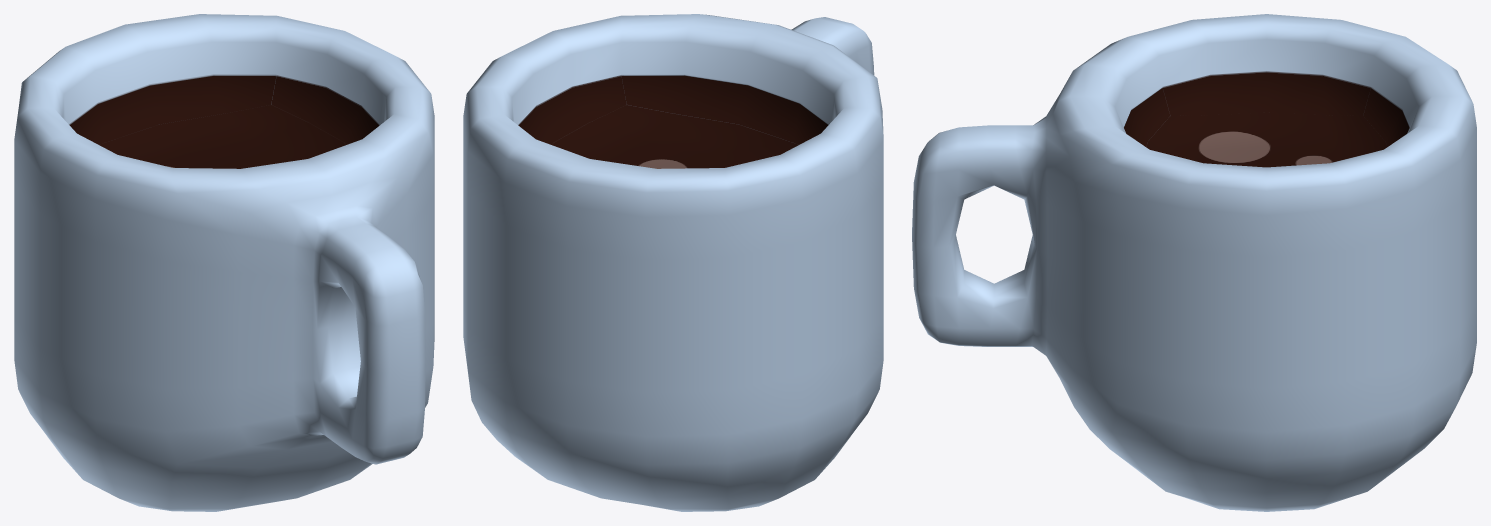
File: Taza.fbx
The picture shows the model from 3 angles, left to right: view 1: azimuth 30°, elevation 25°; view 2: azimuth 150°, elevation 25°; view 3: azimuth 270°, elevation 25°; orthographic projection.
Visible parts, largest first — view 1: pCylinder1; view 2: pCylinder1; view 3: pCylinder1.
Part boxes in pixels (left/top/right/bottom): pCylinder1: left=14, top=14, right=434, bottom=511; pCylinder1: left=463, top=14, right=883, bottom=511; pCylinder1: left=912, top=14, right=1476, bottom=511.
Bounding box in the file's own units: 2.59 × 2.48 × 3.48.
Materials: 1 (1 with a texture image).
